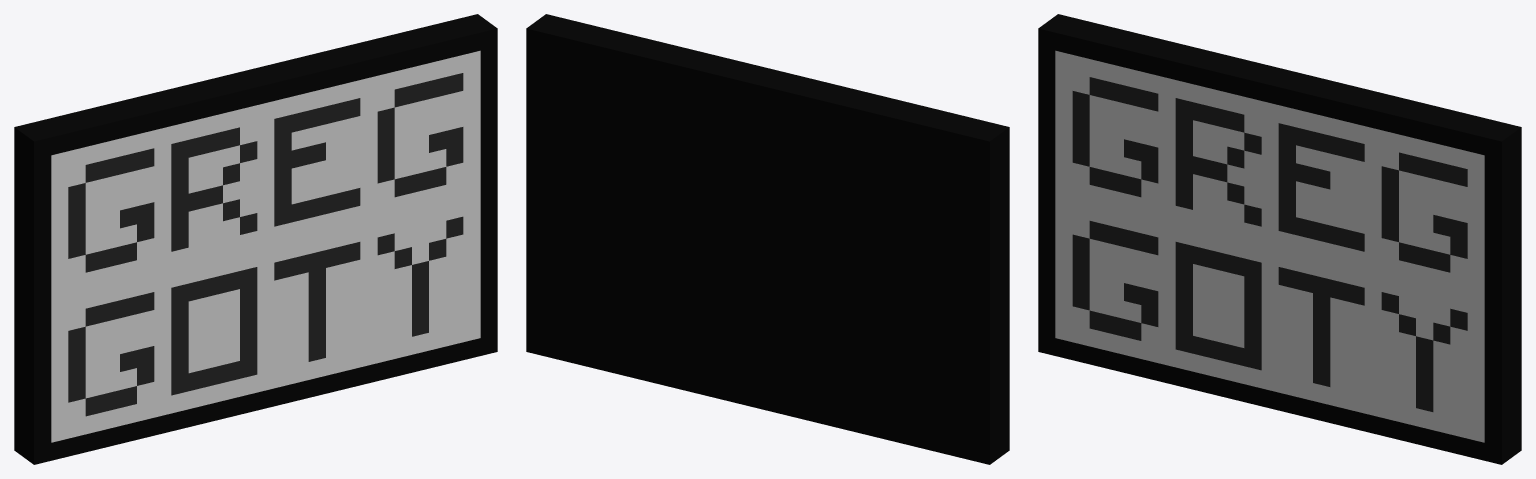
The model's file is poster50.obj.
3 views of the same model, side by side, from view 1: azimuth 30°, elevation 25°; view 2: azimuth 150°, elevation 25°; view 3: azimuth 330°, elevation 25° (orthographic).
Bounding box in the file's own units: 2.7 × 1.8 × 0.2.
1 material, 1 textured.
